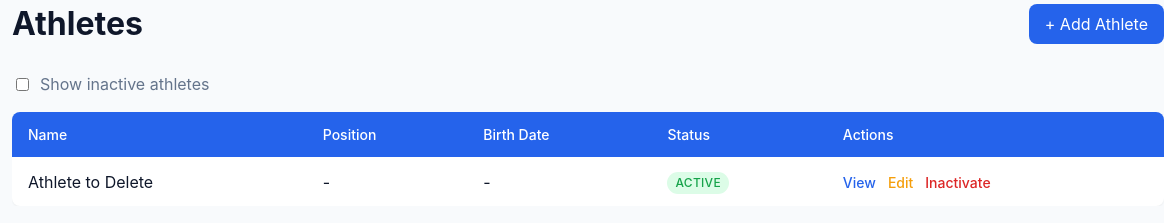
Test: AthletesPage › inactivates athlete and marks inactive when includeInactive is true
Expected: the text "Athlete to Delete" is shown, top-left (12, 157), bottom-right (307, 206)
Click the checkbox labelled "Show inactive athletes": (22, 84) top-left (16, 78), bottom-right (29, 90)
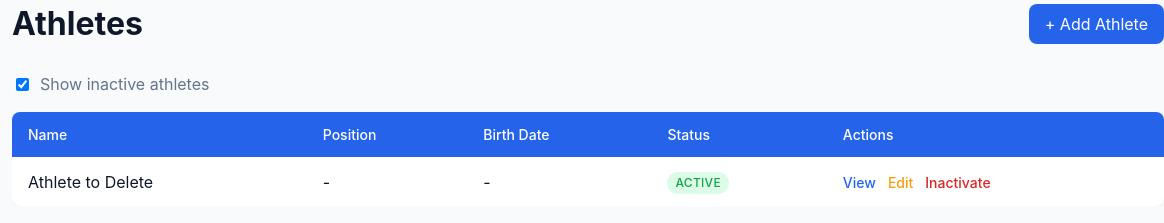
Click the button "Inactivate": (958, 182) top-left (925, 174), bottom-right (991, 190)
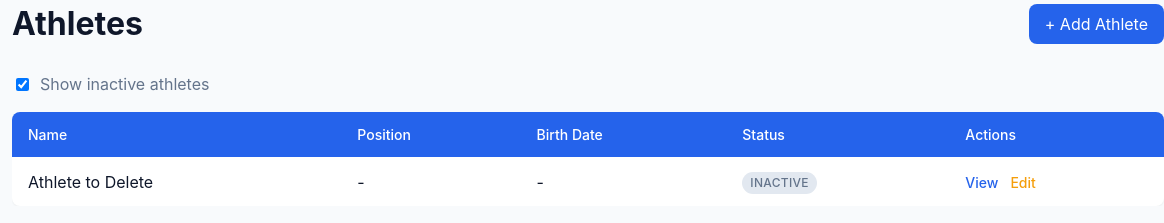
Expected: the text "Athlete to Delete" is shown, top-left (12, 157), bottom-right (341, 206)
Expected: the text "Inactive" is shown, top-left (742, 172), bottom-right (817, 194)
